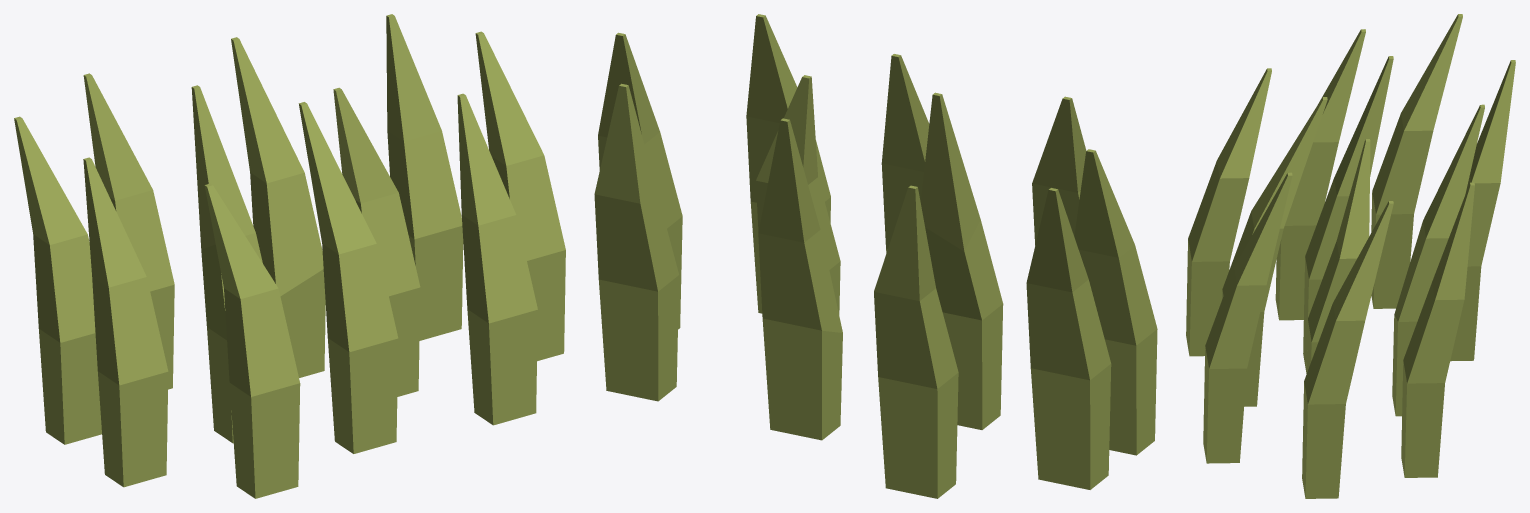
Rendered from Grass.fbx.
3 renders of one model, left to right at view 1: azimuth 30°, elevation 25°; view 2: azimuth 150°, elevation 25°; view 3: azimuth 270°, elevation 25°, orthographic. The views are drawn at different scales.
Parts seen in each view (by area): view 1: Cube.024; view 2: Cube.024; view 3: Cube.024.
Part boxes in pixels (x1=…): Cube.024: x1=14, y1=14, x2=565, y2=498; Cube.024: x1=594, y1=14, x2=1157, y2=498; Cube.024: x1=1186, y1=14, x2=1515, y2=498.
Bounding box in the file's own units: 185 × 121 × 119.
